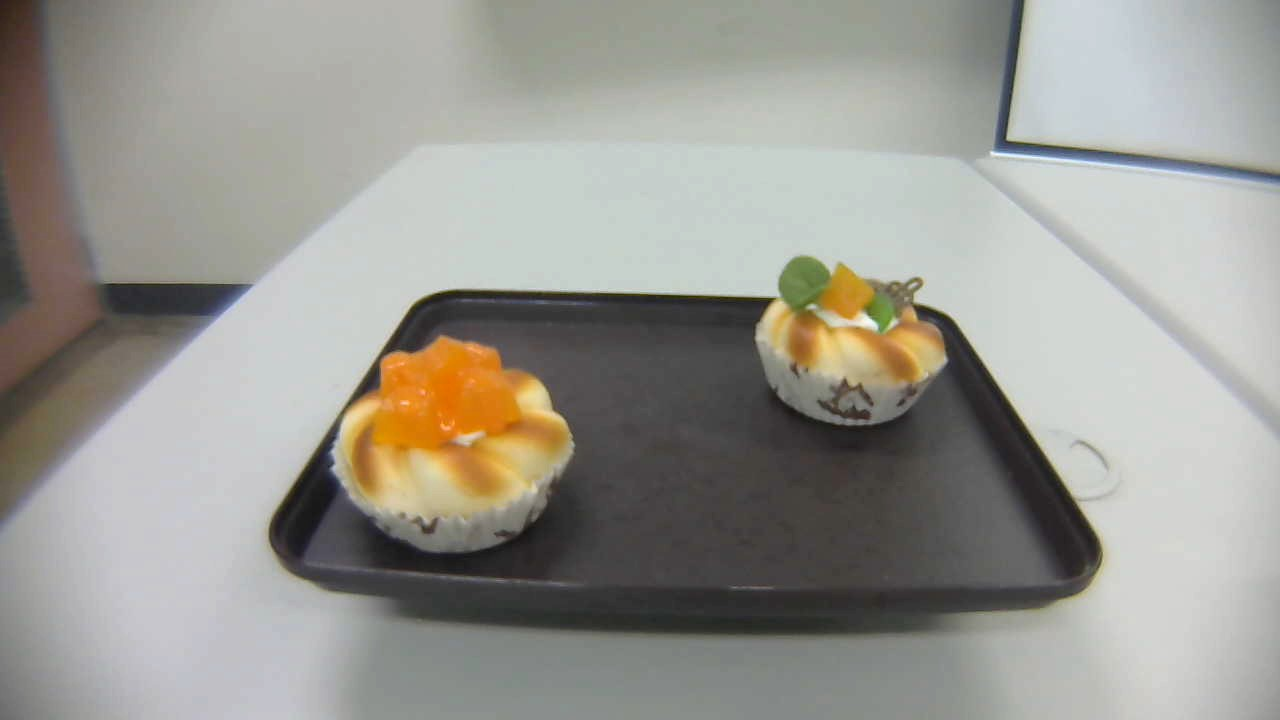fruit tart: (754, 252, 951, 429)
mango tart: (330, 333, 576, 557)
